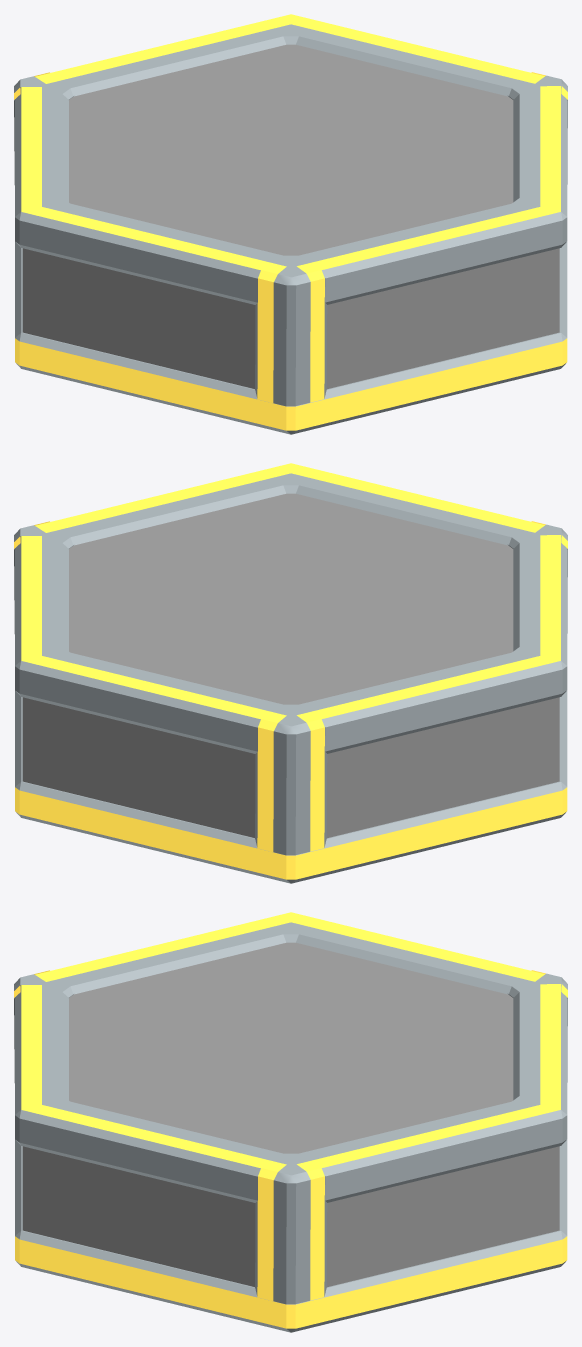
File: SM_HexagonModular_v1.fbx
The picture shows the model from 3 angles, top to bottom: view 1: azimuth 30°, elevation 25°; view 2: azimuth 150°, elevation 25°; view 3: azimuth 270°, elevation 25°; orthographic projection.
Visible parts, largest first — view 1: hologramtop, SM_HexagonTop, hologramsides, SM_HexagonBottom_v1, SM_HexagonSides_v1; view 2: hologramtop, SM_HexagonTop, hologramsides, SM_HexagonBottom_v1, SM_HexagonSides_v1; view 3: hologramtop, SM_HexagonTop, hologramsides, SM_HexagonBottom_v1, SM_HexagonSides_v1.
Part boxes in pixels (x1,y1,x2,y2): hologramtop: [69, 44, 513, 255]; SM_HexagonTop: [15, 14, 567, 304]; hologramsides: [22, 248, 559, 389]; SM_HexagonBottom_v1: [15, 241, 567, 434]; SM_HexagonSides_v1: [14, 72, 567, 406]; hologramtop: [69, 493, 513, 704]; SM_HexagonTop: [15, 463, 567, 753]; hologramsides: [22, 697, 559, 838]; SM_HexagonBottom_v1: [15, 690, 567, 883]; SM_HexagonSides_v1: [14, 521, 567, 855]; hologramtop: [69, 942, 513, 1153]; SM_HexagonTop: [15, 912, 567, 1202]; hologramsides: [22, 1146, 559, 1287]; SM_HexagonBottom_v1: [15, 1139, 567, 1332]; SM_HexagonSides_v1: [14, 970, 567, 1304].
Size of what is drawn, in the model's own units: 3.97 by 1.09 by 3.47.
